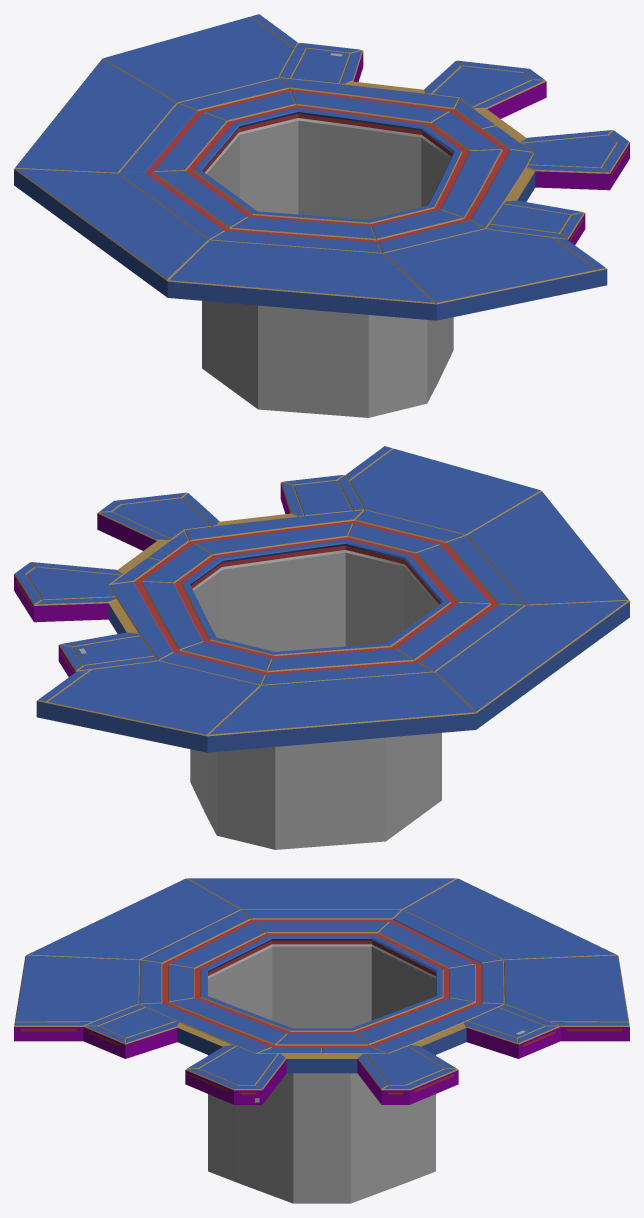
Rendered from SM_Floor_Elevated.fbx.
The picture shows the model from 3 angles, top to bottom: view 1: azimuth 30°, elevation 25°; view 2: azimuth 150°, elevation 25°; view 3: azimuth 270°, elevation 25°; orthographic projection. The views are drawn at different scales.
Visible parts, largest first — view 1: SM_Floor_Elevated; view 2: SM_Floor_Elevated; view 3: SM_Floor_Elevated.
Part boxes in pixels (x1=…): SM_Floor_Elevated: x1=14, y1=14, x2=629, y2=417; SM_Floor_Elevated: x1=14, y1=446, x2=629, y2=849; SM_Floor_Elevated: x1=14, y1=878, x2=629, y2=1203.
Size of the model in its own units: 4714 by 1828 by 5801.
